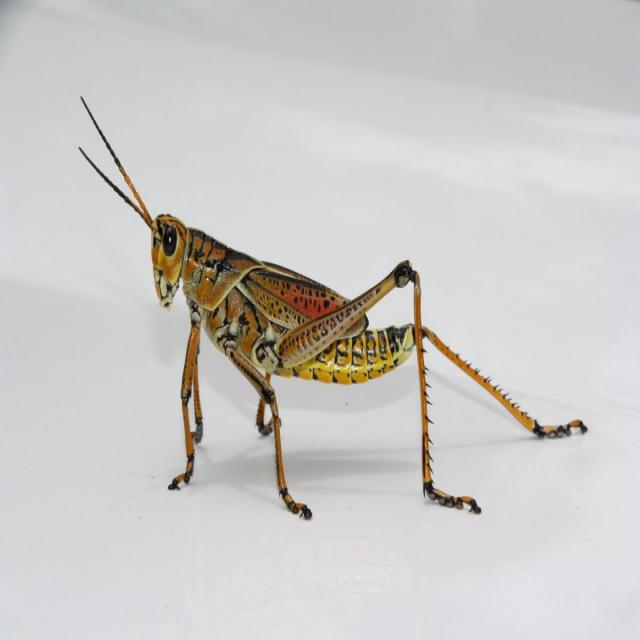ZhaMeng: (97, 152, 596, 510)
